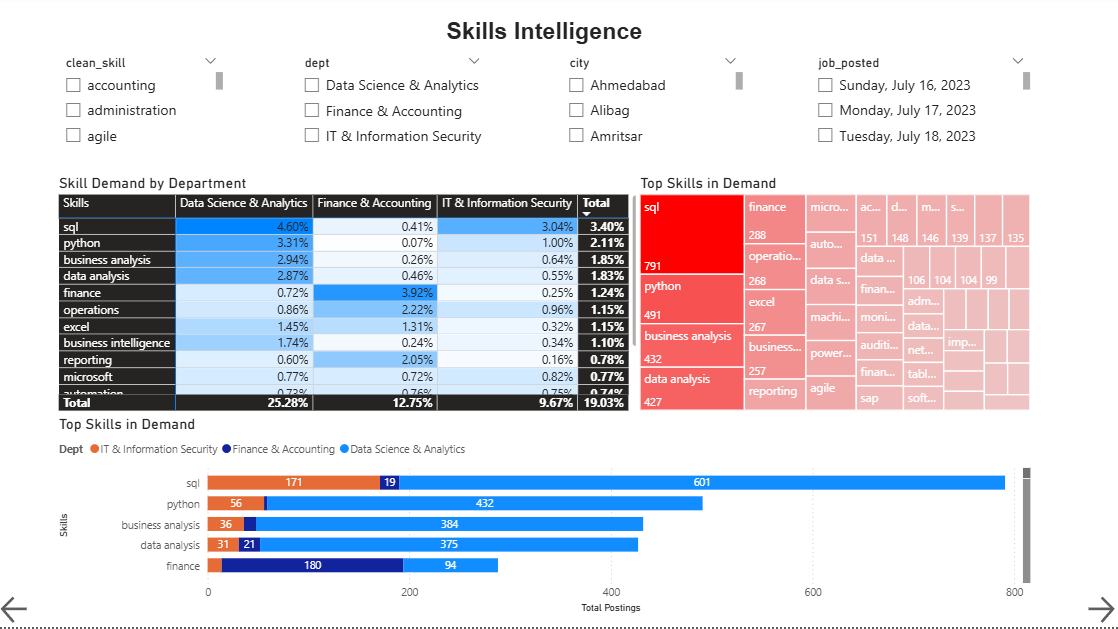

The dashboard page shown, as its layout file describes it:
{"tool":"powerbi","page":{"name":"Skills","canvas":[1280,720],"ordinal":2},"visuals":[{"type":"slicer","fields":{"Values":["DimSkills.clean_skill"]},"box":[65.6,62.7,196.7,116.9],"z":0},{"type":"slicer","fields":{"Values":["DimDepts.dept"]},"box":[337.8,62.7,225.2,116.9],"z":1000},{"type":"slicer","fields":{"Values":["DimLocations.city"]},"box":[640,62.7,215.2,116.9],"z":2000},{"type":"slicer","fields":{"Values":["FactJobs.job_posted"]},"box":[923.7,62.7,259.4,116.9],"z":3000},{"type":"pivotTable","title":"Skill Demand by Department","fields":{"Rows":["DimSkills.clean_skill"],"Values":["_Measures.Postings with Skill %"],"Columns":["FactJobs.Dept"]},"box":[65.6,202.4,672.8,275.1],"z":4000},{"type":"treemap","title":"Top Skills in Demand","fields":{"Group":["FactJobs.clean_skill"],"Values":["_Measures.Total Postings"]},"box":[728.4,202.4,454.7,275.1],"z":5000},{"type":"barChart","title":"Top Skills in Department","fields":{"Category":["DimSkills.clean_skill"],"Y":["_Measures.Total Postings"],"Series":["DimDepts.dept"]},"box":[65.6,477.5,1117.5,230.9],"z":6000},{"type":"textbox","box":[65.6,20,1117.5,42.8],"z":7000},{"type":"actionButton","box":[0,679.9,42.8,39.9],"z":8000},{"type":"actionButton","box":[1238.7,679.9,41.3,39.9],"z":9000}]}

Visuals, with their boxes in screenshot pixels (x1, y1, x2, y2), scaled from the page's 1280x720 canvas onto the 1118x629 screenshot:
slicer - DimSkills.clean_skill: box(57, 55, 229, 157)
slicer - DimDepts.dept: box(295, 55, 492, 157)
slicer - DimLocations.city: box(559, 55, 747, 157)
slicer - FactJobs.job_posted: box(807, 55, 1033, 157)
"Skill Demand by Department" pivotTable: box(57, 177, 645, 417)
"Top Skills in Demand" treemap: box(636, 177, 1033, 417)
"Top Skills in Department" barChart: box(57, 417, 1033, 619)
textbox: box(57, 17, 1033, 55)
actionButton: box(0, 594, 37, 628)
actionButton: box(1082, 594, 1117, 628)
